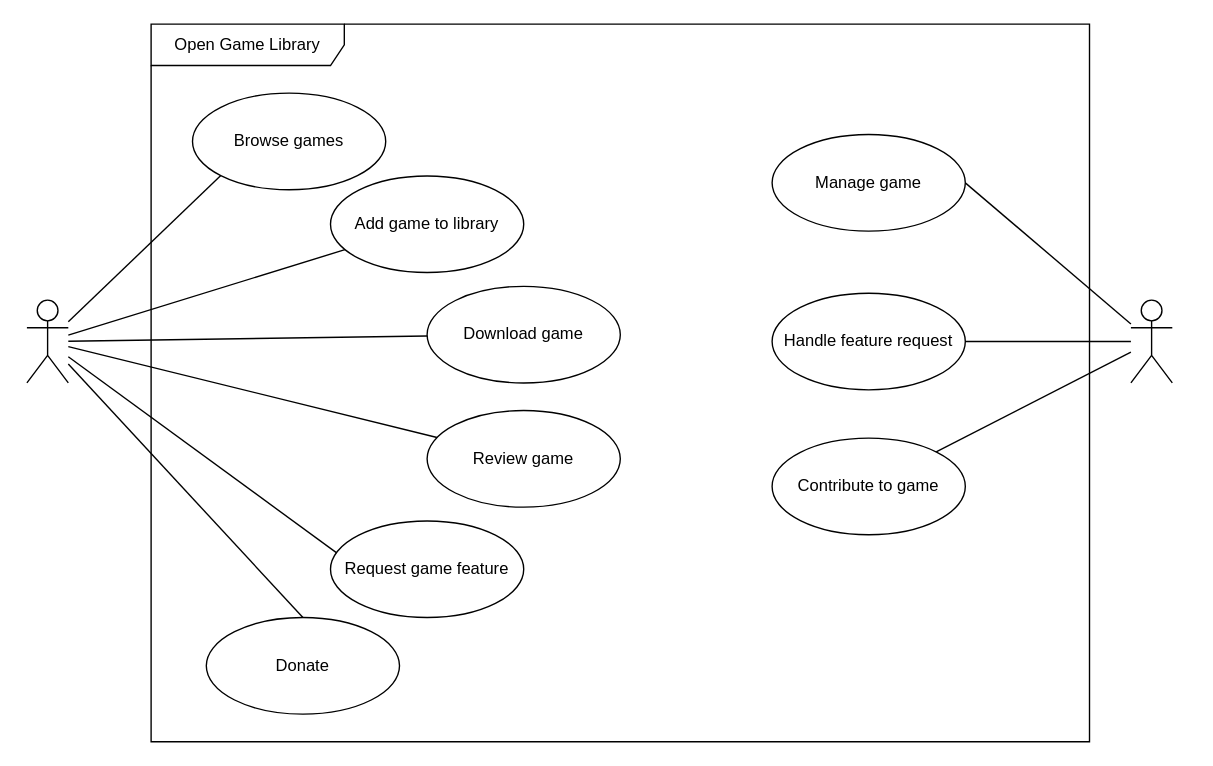
Image size: 1213x766. Some labels were removed from this diagram. Each missing label, with the centre of its shape:
"Developer" goes at (x=1151, y=341).
"Player" goes at (x=47, y=341).
